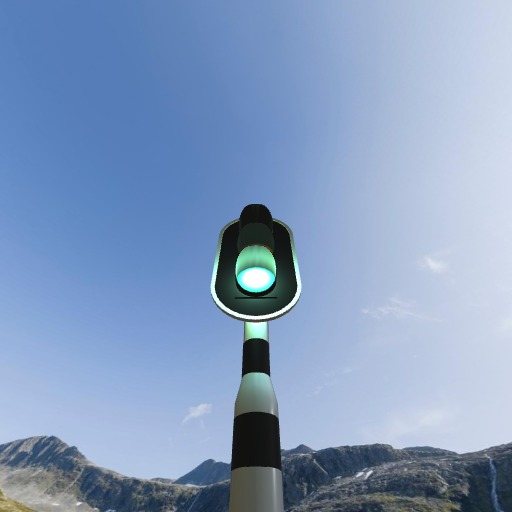Green_Light: (208, 204, 302, 319)
